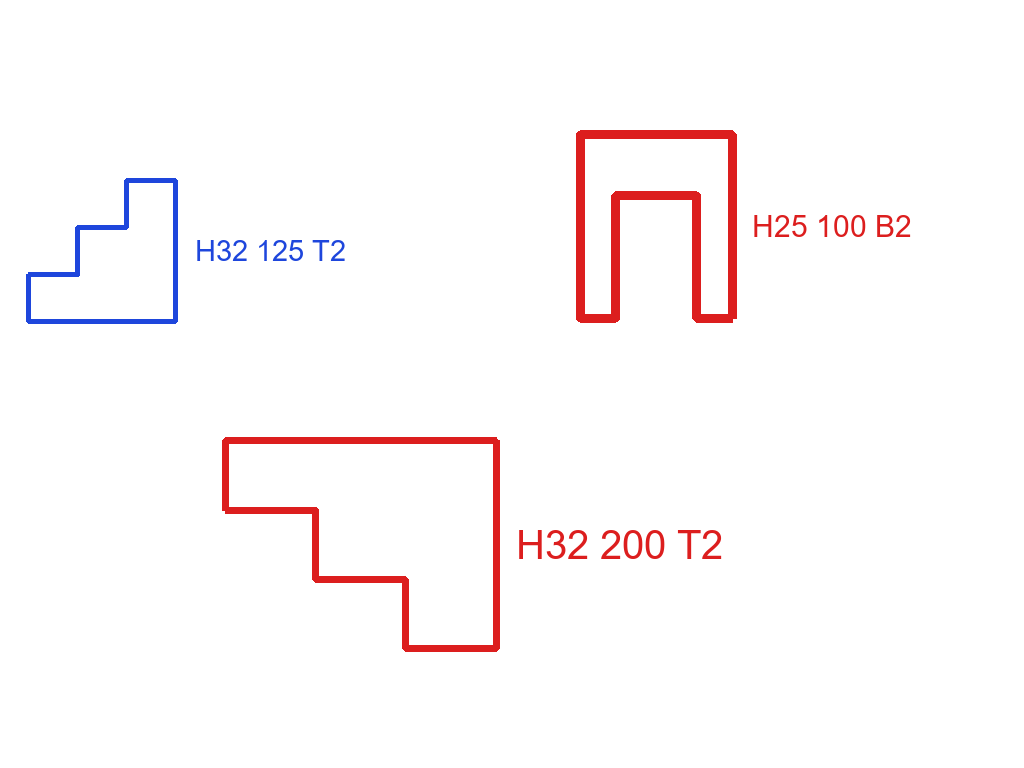shape: (220, 435, 502, 654), (574, 128, 739, 325), (24, 176, 180, 326)
text: (514, 528, 725, 561), (750, 213, 914, 239), (193, 238, 348, 263)
